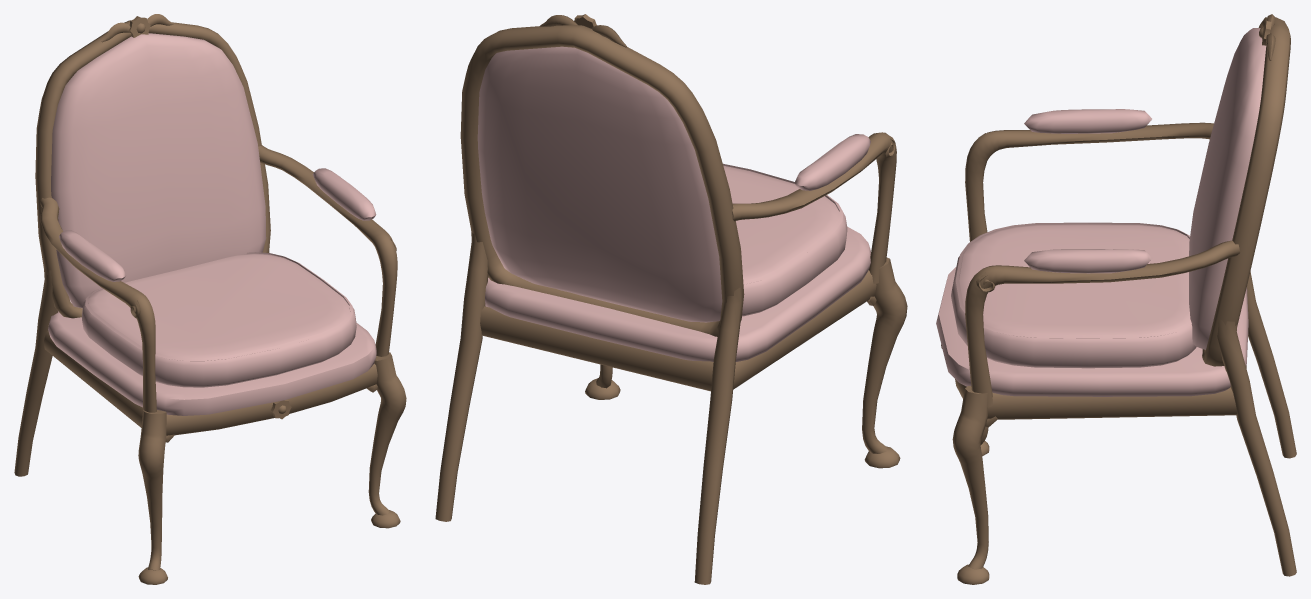
File: Kit_QueenAnneArmchair.fbx
The picture shows the model from 3 angles, left to right: view 1: azimuth 30°, elevation 25°; view 2: azimuth 150°, elevation 25°; view 3: azimuth 270°, elevation 25°; orthographic projection. The views are drawn at different scales.
Visible parts, largest first — view 1: Kit_QueenAnneArmchair_LOD0; view 2: Kit_QueenAnneArmchair_LOD0; view 3: Kit_QueenAnneArmchair_LOD0.
Part boxes in pixels (<box>): Kit_QueenAnneArmchair_LOD0: <box>14,14,406,584</box>; Kit_QueenAnneArmchair_LOD0: <box>435,14,907,584</box>; Kit_QueenAnneArmchair_LOD0: <box>936,14,1296,584</box>.
Size of what is drawn, in the model's own units: 0.6932 by 1.06 by 0.7018.
